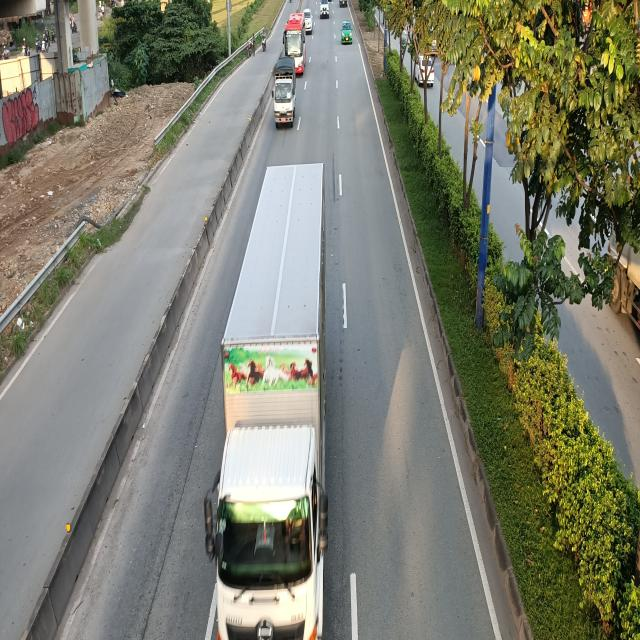car: (342, 21, 353, 44)
coach: (282, 13, 306, 75)
truck: (203, 164, 334, 640), (272, 58, 297, 130)
